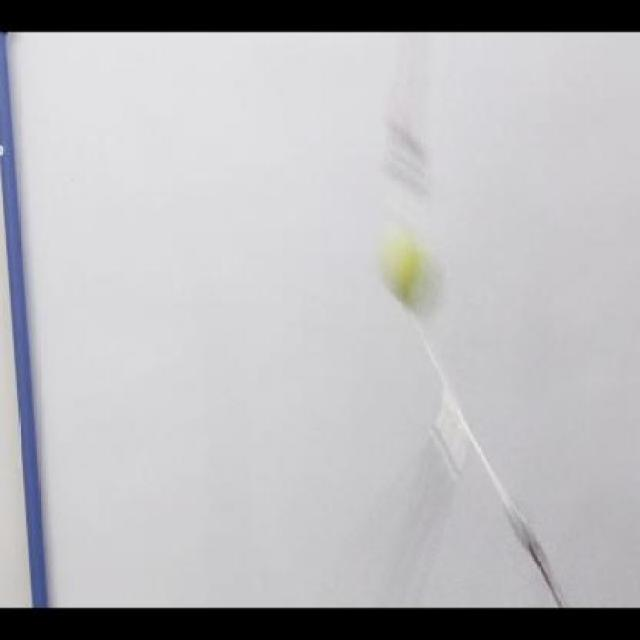baseball: (380, 238, 432, 312)
